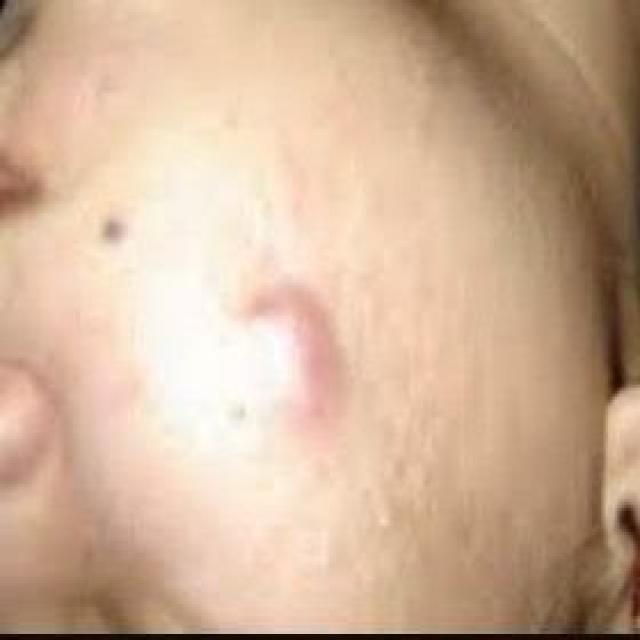nodule: (222, 252, 376, 485)
